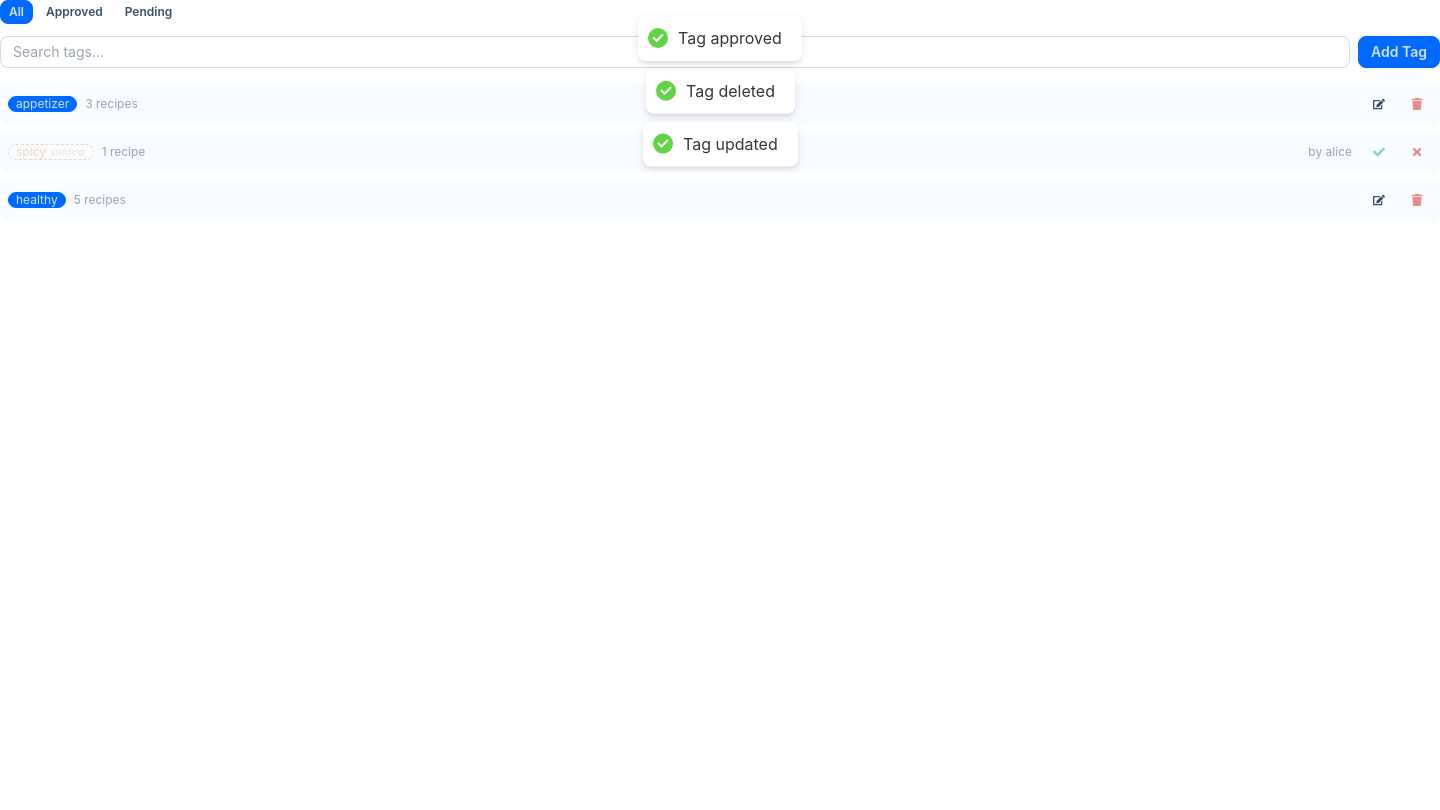
CommunityTagsList › should reject a pending tag after confirmation
expect the text "spicy" is shown: met, box [16,144,46,159]
Click the button titled "Reject" at (1417, 152), box [1402,140,1432,164]
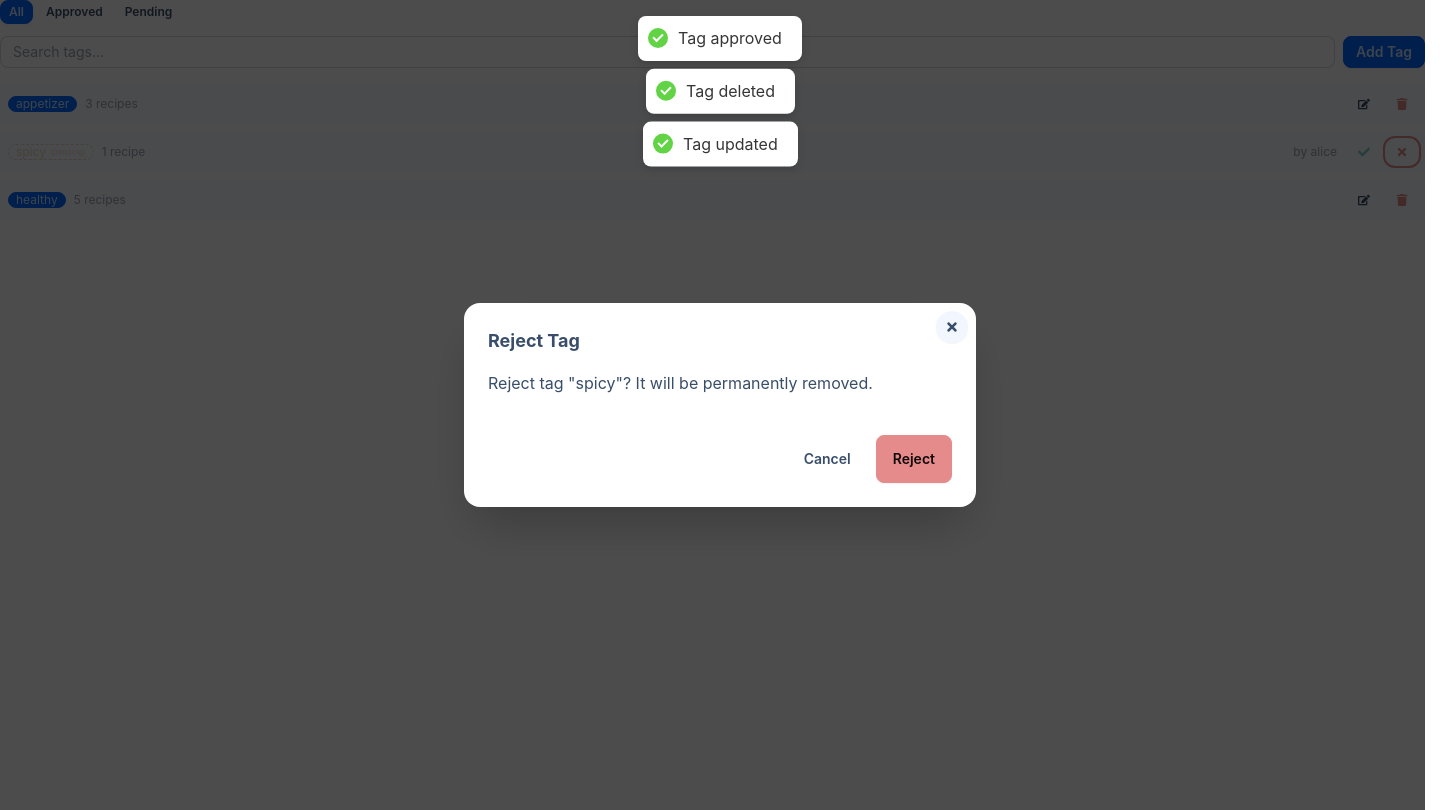
expect the text "Reject tag \"spicy\"? It will be permanently removed." is shown: met, box [488,373,873,393]
Click the button "Reject" at (914, 459), box [876,435,952,483]
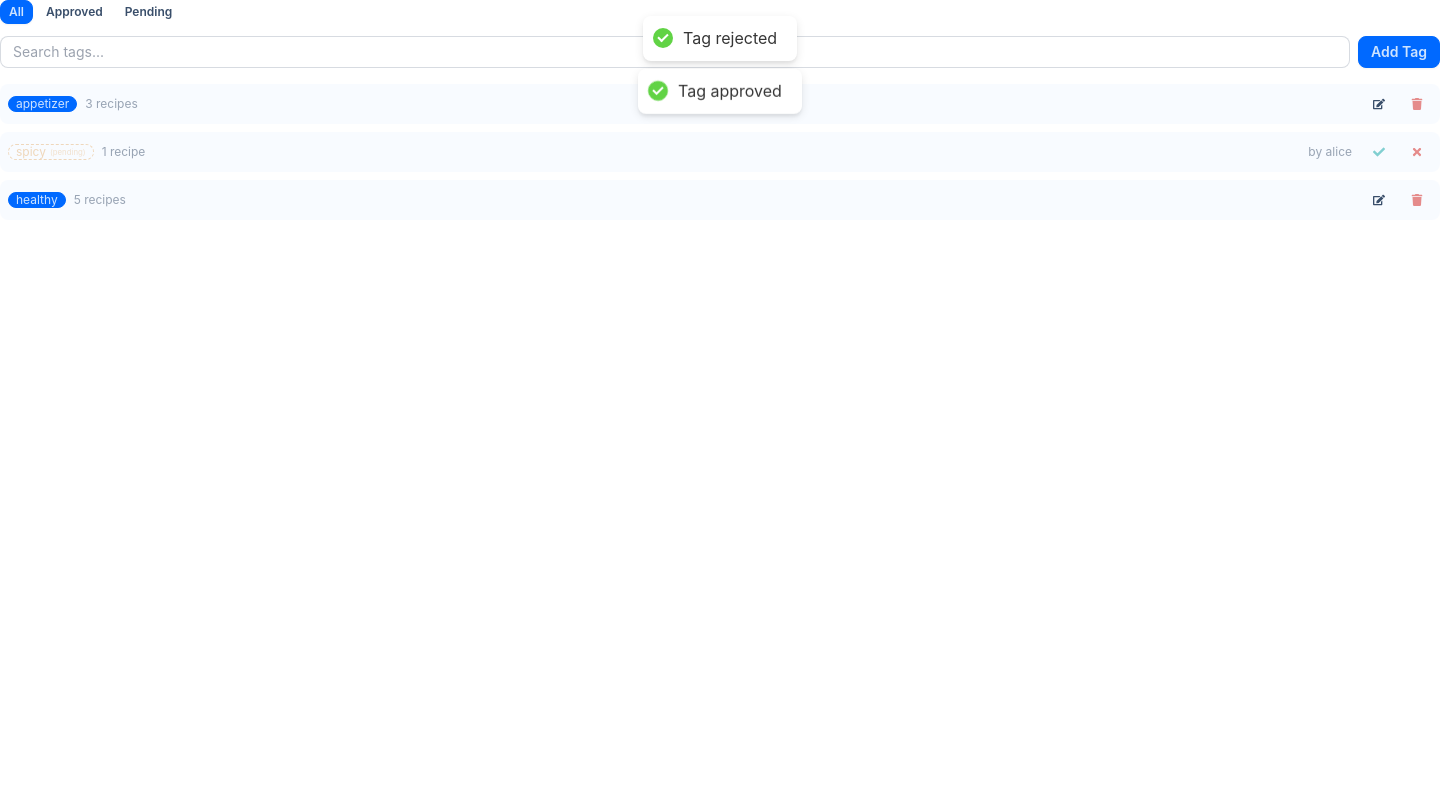
expect the text "Tag rejected" is shown: met, box [683,28,777,49]
